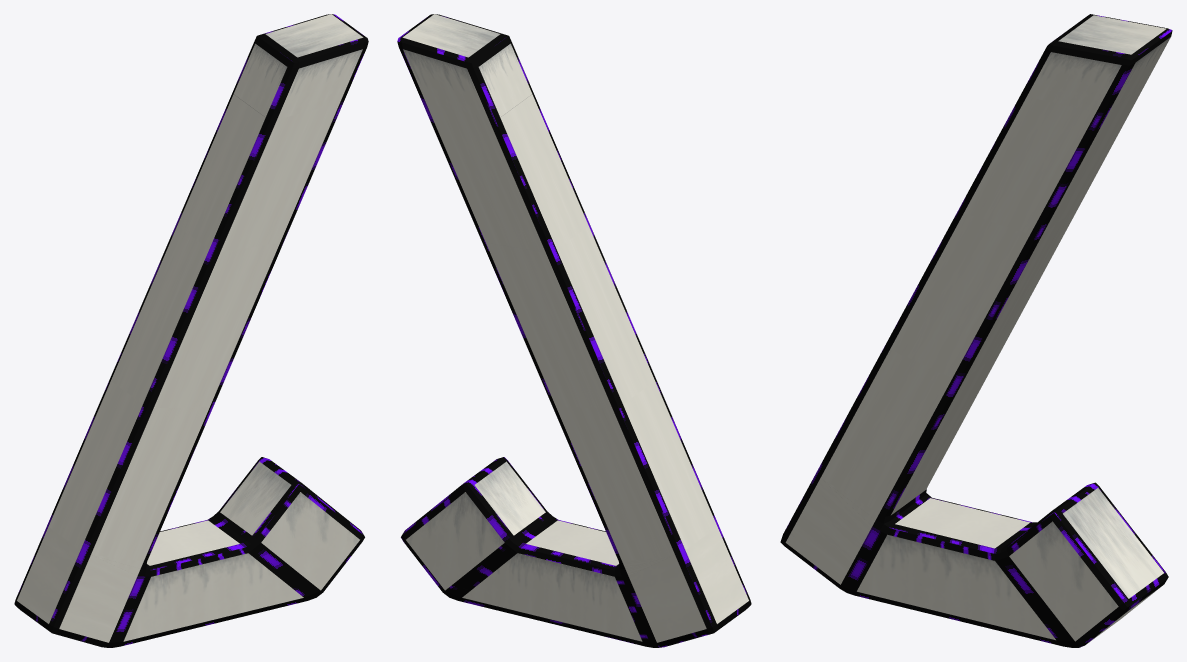
The model's file is towerSection.fbx.
The picture shows the model from 3 angles, left to right: view 1: azimuth 30°, elevation 25°; view 2: azimuth 150°, elevation 25°; view 3: azimuth 330°, elevation 25°; orthographic projection. The views are drawn at different scales.
Parts seen in each view (by area): view 1: Cube; view 2: Cube; view 3: Cube.
Part boxes in pixels (x1,y1,x2,y2): Cube: (14, 14, 368, 647); Cube: (397, 14, 751, 647); Cube: (780, 14, 1172, 647).
Bounding box in the file's own units: 4.58 × 7.54 × 1.
